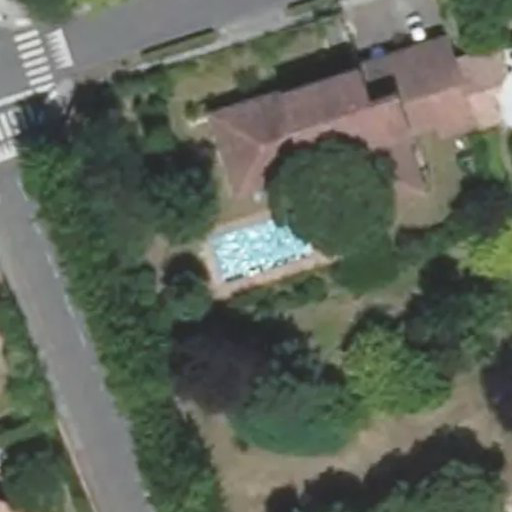pool: (204, 233, 306, 250)
